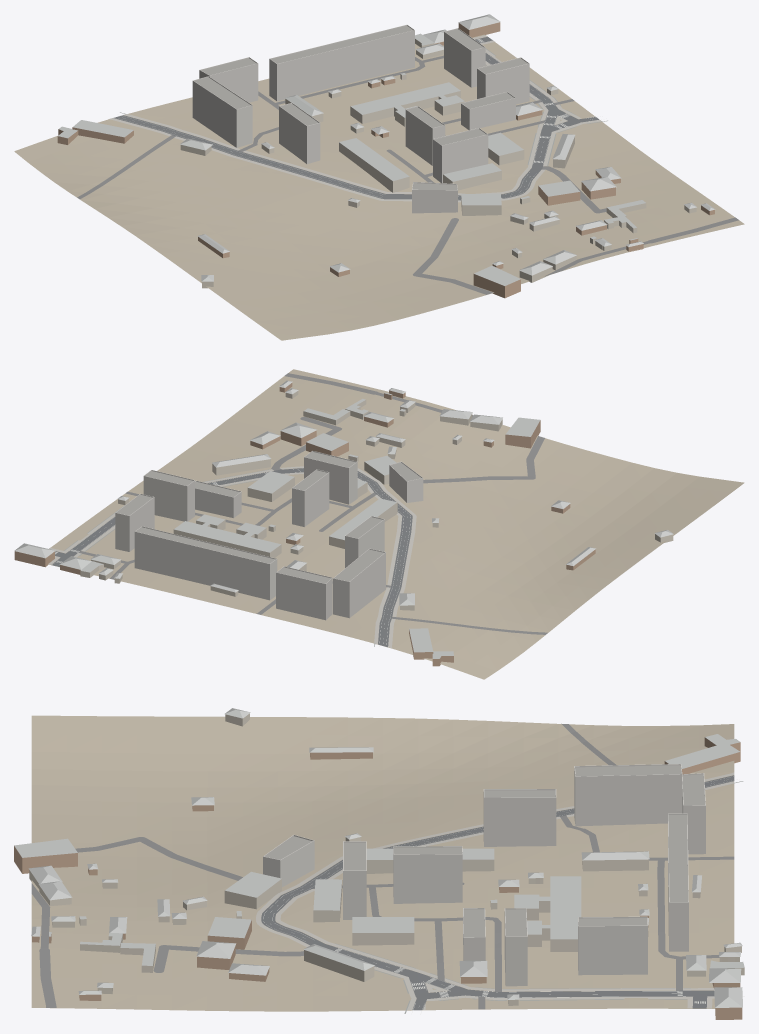
File: bolak_-13_6.glb
The picture shows the model from 3 angles, top to bottom: view 1: azimuth 30°, elevation 25°; view 2: azimuth 150°, elevation 25°; view 3: azimuth 270°, elevation 25°; orthographic projection. The views are drawn at different scales.
Visible parts, largest first — view 1: Yer_Tuproq-col, Devor_Panel-col, Tom_Shifer, Devor_Suvoq-col, Tom_Tekis, Yol_Mahalla-col, Yol_Asfalt-col, Devor_Gisht-col, Trotuar; view 2: Yer_Tuproq-col, Devor_Panel-col, Tom_Shifer, Devor_Suvoq-col, Tom_Tekis, Yol_Mahalla-col, Yol_Asfalt-col, Devor_Gisht-col, Trotuar; view 3: Yer_Tuproq-col, Devor_Panel-col, Tom_Shifer, Devor_Suvoq-col, Tom_Tekis, Yol_Mahalla-col, Yol_Asfalt-col, Devor_Gisht-col, Trotuar, Yol_Chiziq, Ariq.
Part boxes in pixels (x1,y1,x2,y2): Yer_Tuproq-col: [14, 34, 744, 340]; Devor_Panel-col: [192, 24, 529, 213]; Tom_Shifer: [58, 14, 715, 285]; Devor_Suvoq-col: [180, 39, 696, 288]; Tom_Tekis: [194, 26, 527, 189]; Yol_Mahalla-col: [77, 55, 738, 294]; Yol_Asfalt-col: [114, 36, 599, 200]; Devor_Gisht-col: [57, 22, 714, 298]; Trotuar: [108, 35, 601, 202]; Yer_Tuproq-col: [48, 369, 744, 679]; Devor_Panel-col: [115, 451, 423, 620]; Tom_Shifer: [14, 380, 673, 658]; Devor_Suvoq-col: [80, 391, 673, 610]; Tom_Tekis: [117, 452, 421, 583]; Yol_Mahalla-col: [79, 373, 547, 634]; Yol_Asfalt-col: [52, 468, 412, 647]; Devor_Gisht-col: [14, 383, 595, 666]; Trotuar: [48, 466, 416, 648]; Yer_Tuproq-col: [31, 715, 734, 1011]; Devor_Panel-col: [263, 764, 705, 986]; Tom_Shifer: [14, 708, 744, 1007]; Devor_Suvoq-col: [29, 713, 744, 1005]; Tom_Tekis: [265, 765, 705, 937]; Yol_Mahalla-col: [31, 723, 734, 1009]; Yol_Asfalt-col: [261, 775, 734, 1010]; Devor_Gisht-col: [14, 737, 742, 1019]; Trotuar: [256, 772, 734, 1009]; Yol_Chiziq: [263, 776, 744, 1014]; Ariq: [335, 781, 743, 1013].
Size of what is drawn, in the model's own units: 417 by 42.59 by 416.
